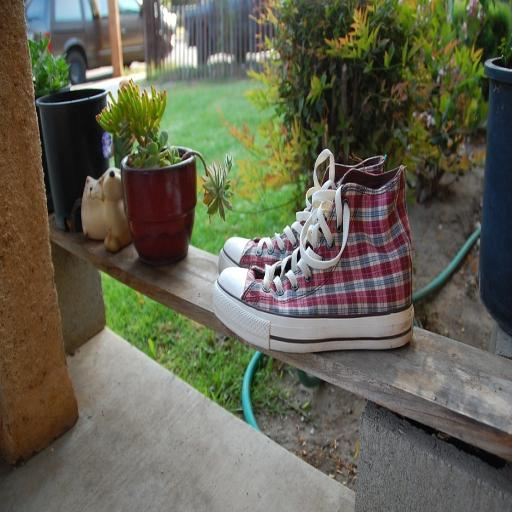shoe: (213, 167, 414, 352), (218, 149, 386, 274)
